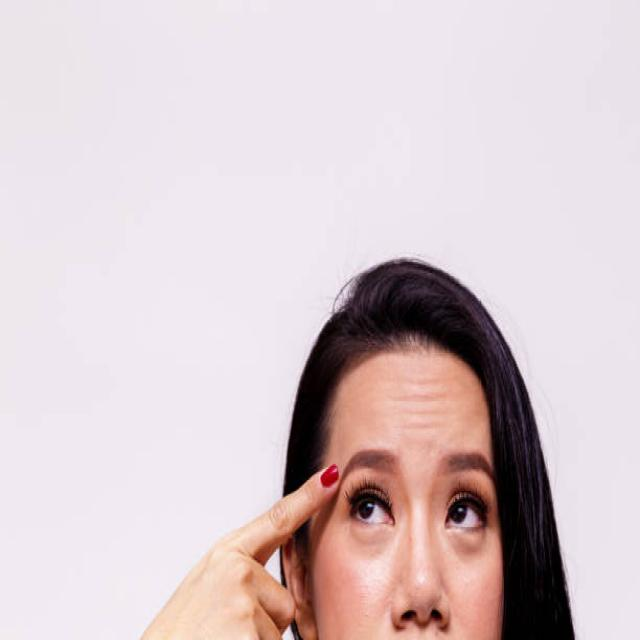Dry-Skin: (374, 364, 470, 461)
